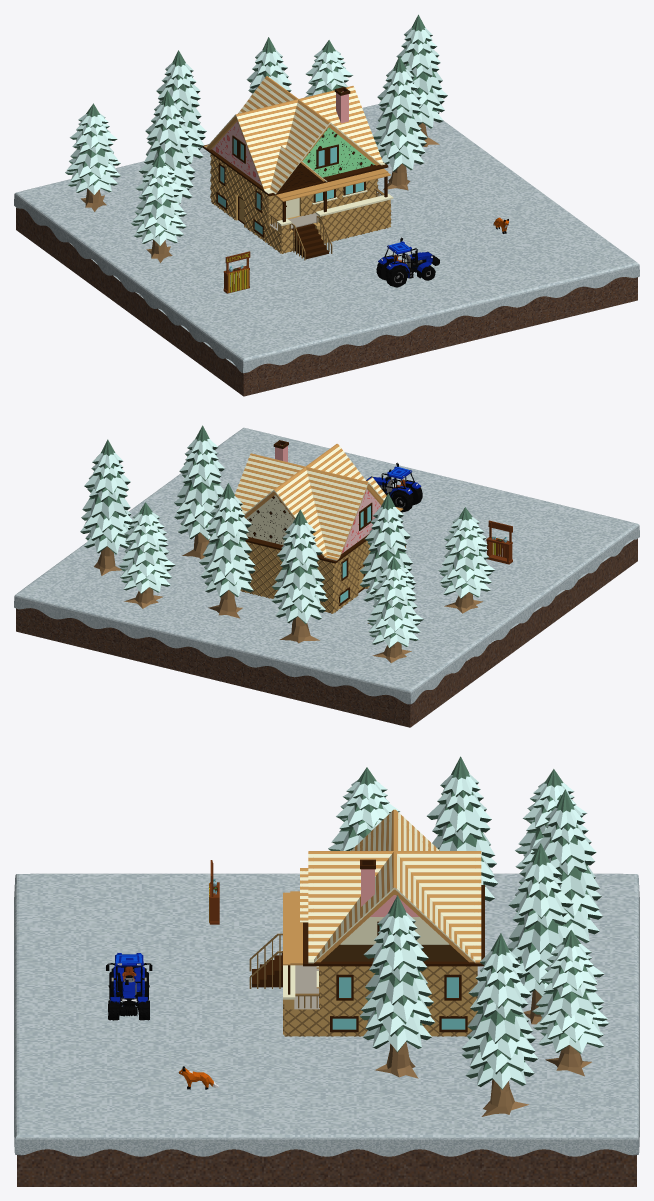
The picture shows the model from 3 angles, top to bottom: view 1: azimuth 30°, elevation 25°; view 2: azimuth 150°, elevation 25°; view 3: azimuth 270°, elevation 25°; orthographic projection. The views are drawn at different scales.
Parts seen in each view (by area): view 1: Cube.003, Cube.1102, VEHICLES_TRACTOR, OBJRANDOM_LEMONADE_STAND; view 2: Cube.003, Cube.1102, VEHICLES_TRACTOR, OBJRANDOM_LEMONADE_STAND; view 3: Cube.003, Cube.1102, VEHICLES_TRACTOR.
Boxes of the visible parts, bbox=[...] form: Cube.003: bbox=[14, 14, 639, 396]; Cube.1102: bbox=[202, 76, 393, 260]; VEHICLES_TRACTOR: bbox=[376, 237, 439, 287]; OBJRANDOM_LEMONADE_STAND: bbox=[223, 251, 250, 293]; Cube.003: bbox=[14, 425, 639, 727]; Cube.1102: bbox=[234, 440, 405, 613]; VEHICLES_TRACTOR: bbox=[366, 462, 422, 512]; OBJRANDOM_LEMONADE_STAND: bbox=[486, 520, 512, 564]; Cube.003: bbox=[14, 756, 639, 1186]; Cube.1102: bbox=[249, 809, 484, 1036]; VEHICLES_TRACTOR: bbox=[106, 953, 152, 1020].
Bounding box in the file's own units: 4040 × 1715 × 4040.
Materials: 32 (5 with a texture image).
